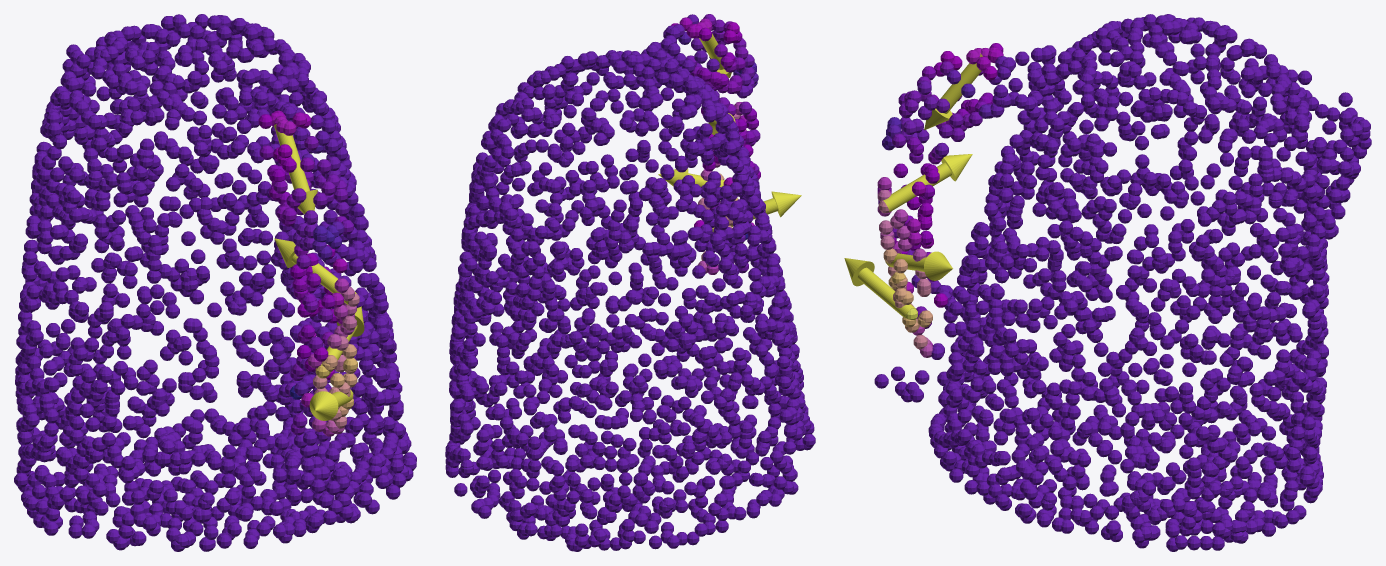
File: pred_heatmap_0.glb
The picture shows the model from 3 angles, left to right: view 1: azimuth 30°, elevation 25°; view 2: azimuth 150°, elevation 25°; view 3: azimuth 270°, elevation 25°; orthographic projection. The views are drawn at different scales.
Visible parts, largest first — view 1: world; view 2: world; view 3: world.
Part boxes in pixels (left/top/right/bottom): world: left=14, top=14, right=416, bottom=551; world: left=445, top=14, right=815, bottom=551; world: left=844, top=14, right=1371, bottom=551.
Bounding box in the file's own units: 1.62 × 2.04 × 2.14.
